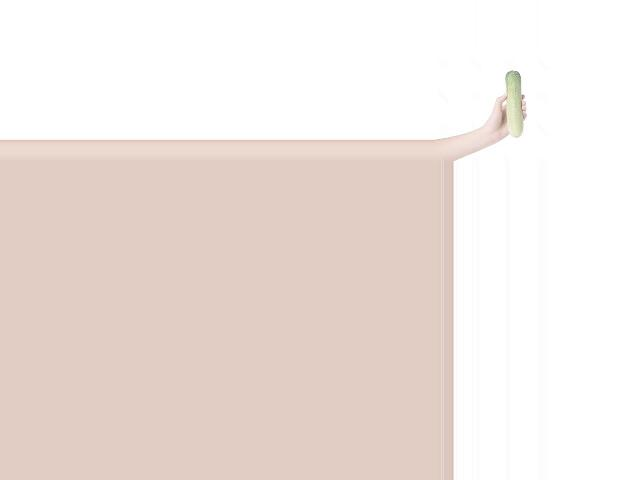cucumber: (503, 70, 522, 138)
